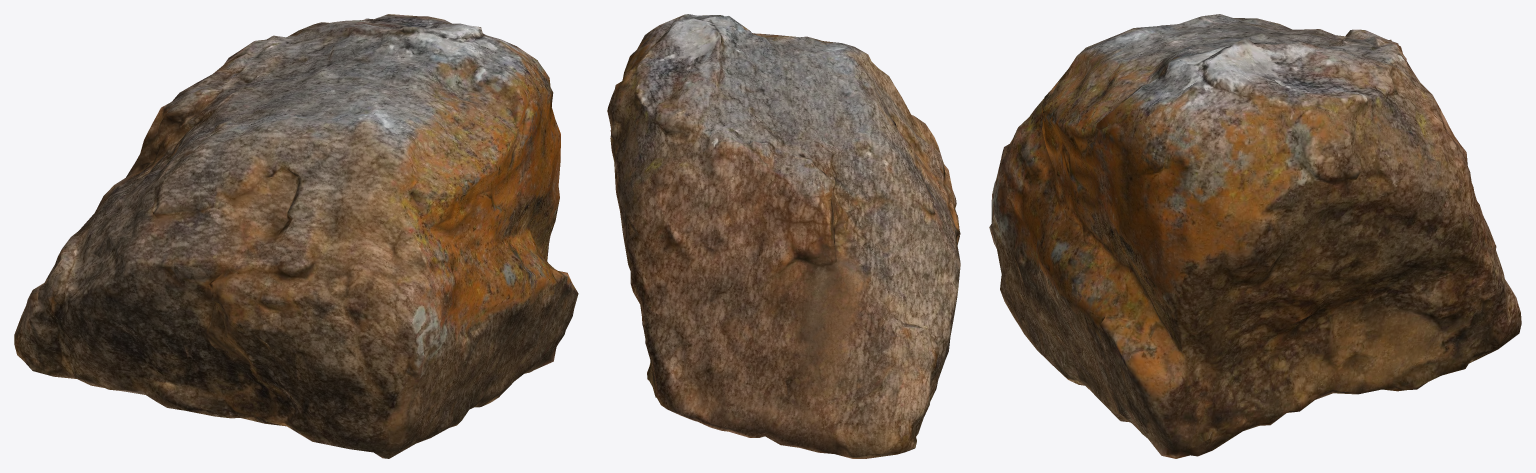
File: namaqualand_boulder_04.glb
The picture shows the model from 3 angles, left to right: view 1: azimuth 30°, elevation 25°; view 2: azimuth 150°, elevation 25°; view 3: azimuth 270°, elevation 25°; orthographic projection. The views are drawn at different scales.
Visible parts, largest first — view 1: a_lod0; view 2: a_lod0; view 3: a_lod0.
Part boxes in pixels (left/top/right/bottom): a_lod0: left=14, top=14, right=578, bottom=458; a_lod0: left=607, top=14, right=960, bottom=458; a_lod0: left=989, top=14, right=1521, bottom=458.
Size of what is drawn, in the model's own units: 2.51 by 1.89 by 2.49.
1 material, 1 textured.
